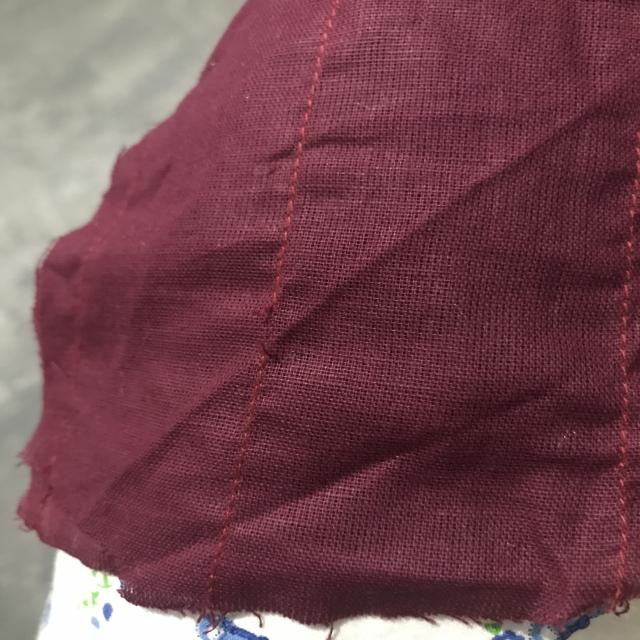broken: (246, 276, 307, 369)
skip: (284, 84, 315, 185)
